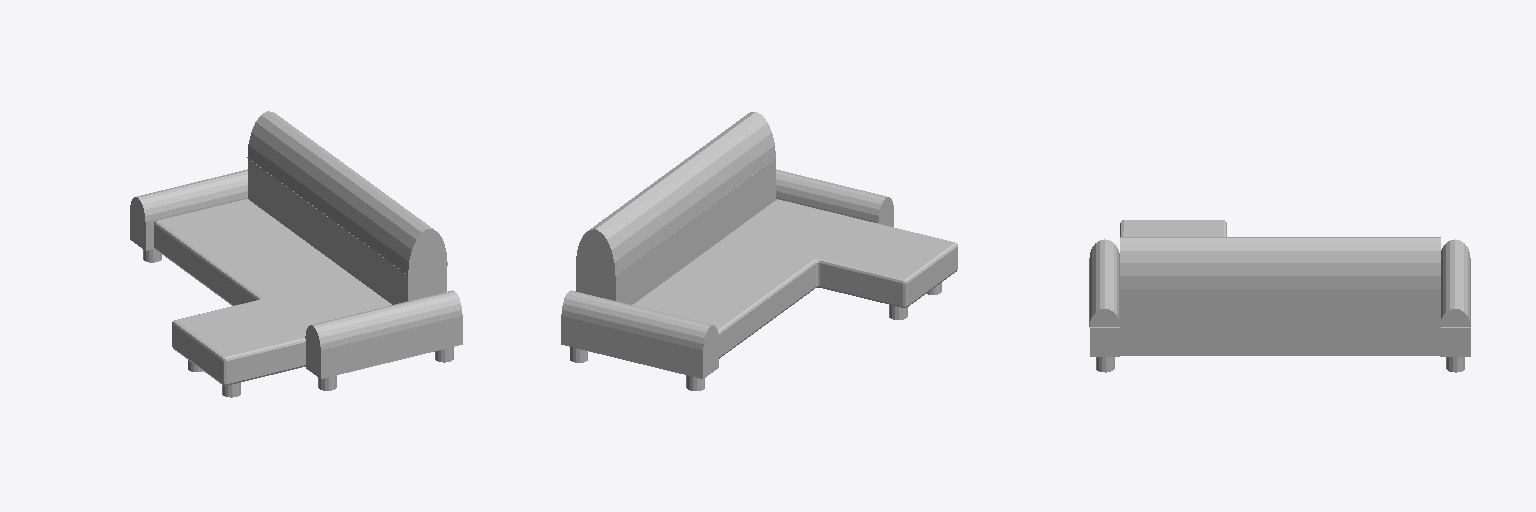
File: couch.obj
3 views of the same model, side by side, from view 1: azimuth 30°, elevation 25°; view 2: azimuth 150°, elevation 25°; view 3: azimuth 270°, elevation 25° (orthographic).
Visible parts, largest first — view 1: sofa; view 2: sofa; view 3: sofa.
Part boxes in pixels (x1,y1,x2,y2): sofa: (130, 111, 462, 397); sofa: (561, 112, 957, 390); sofa: (1089, 220, 1470, 372).
Bounding box in the file's own units: 6.91 × 3.74 × 10.21.